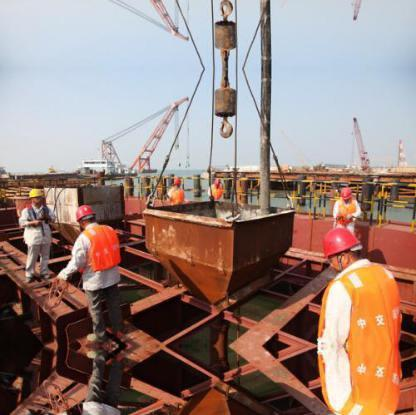helmet: (316, 226, 362, 256), (75, 205, 96, 225), (340, 185, 355, 202), (29, 188, 44, 202), (170, 178, 182, 187), (213, 177, 222, 185)
